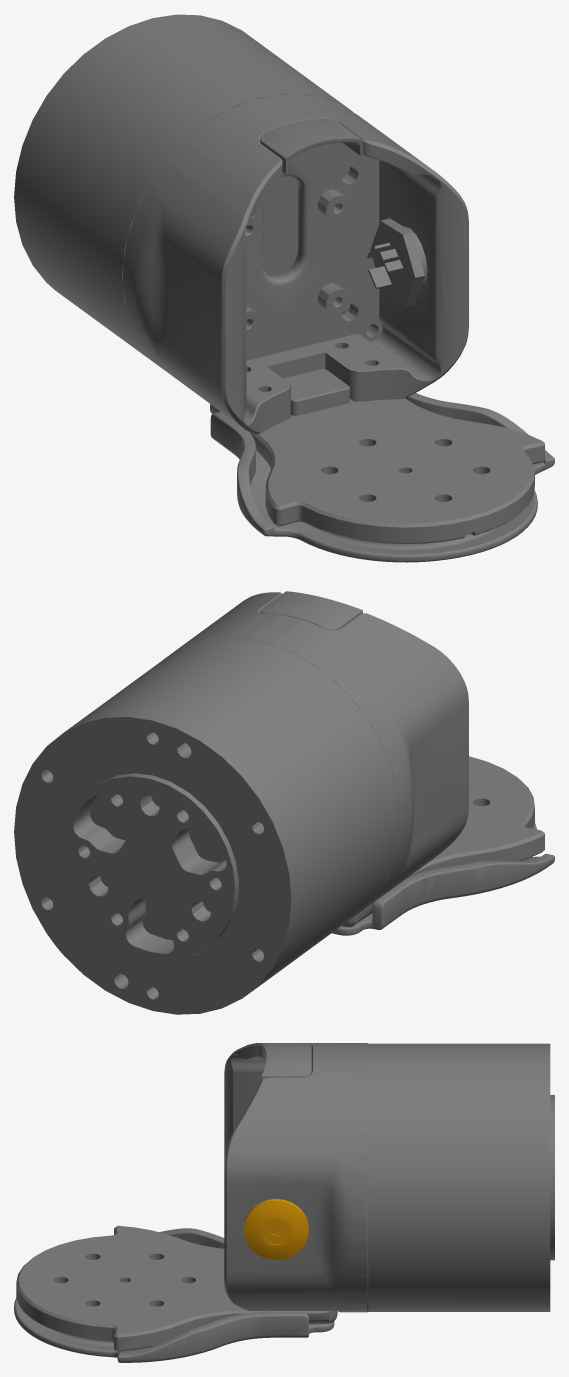
The picture shows the model from 3 angles, top to bottom: view 1: azimuth 30°, elevation 25°; view 2: azimuth 150°, elevation 25°; view 3: azimuth 270°, elevation 25°; orthographic projection. The views are drawn at different scales.
Parts seen in each view (by area): view 1: link5; view 2: link5; view 3: link5.
Boxes of the visible parts, x1,y1,x2,y2 form: link5: (14,14,554,562); link5: (14,591,554,1014); link5: (14,1043,554,1362).
Bounding box in the file's own units: 0.06 × 0.1145 × 0.0609.
